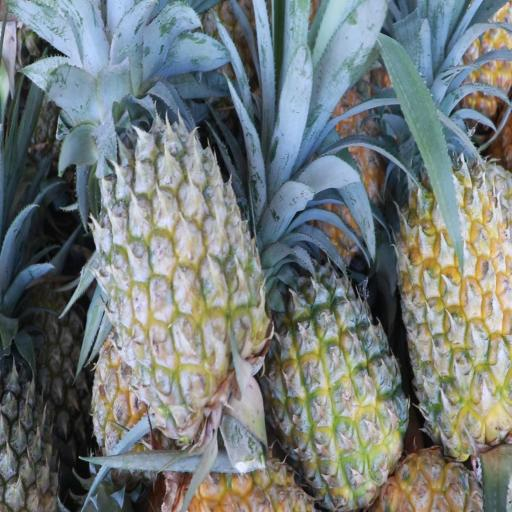------------------------------: (98, 125, 257, 428)
Pineapple - v8 v1: (403, 172, 512, 460), (268, 275, 403, 502)
